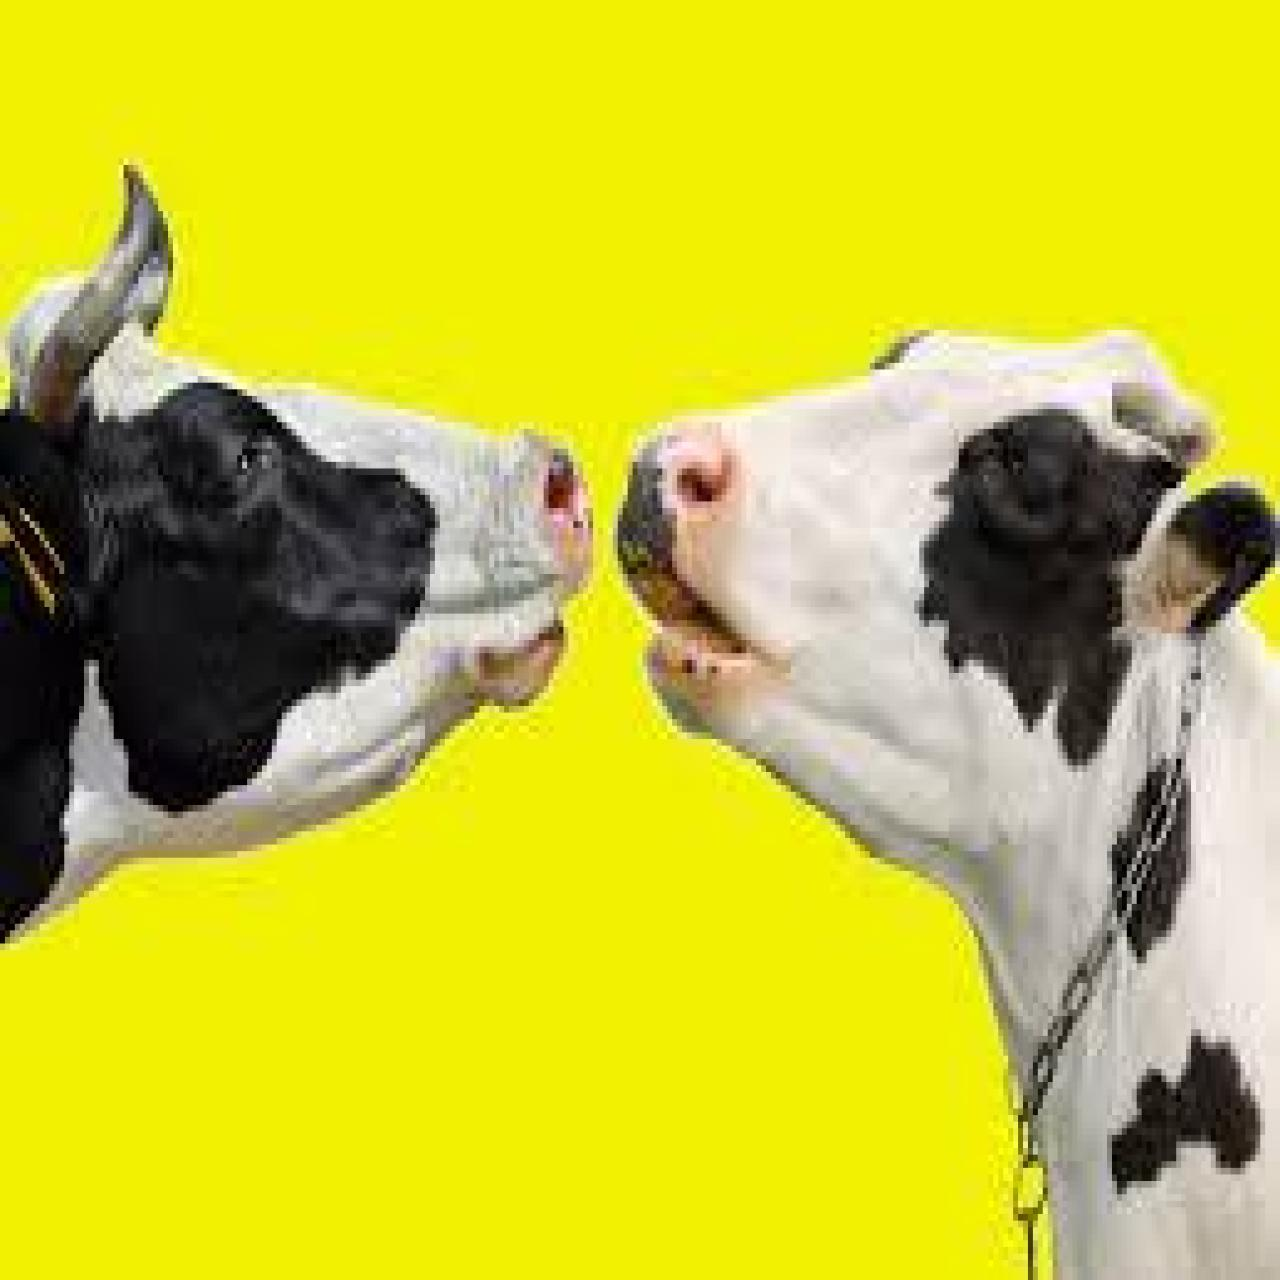cow: (618, 329, 1280, 1273), (0, 274, 598, 940)
